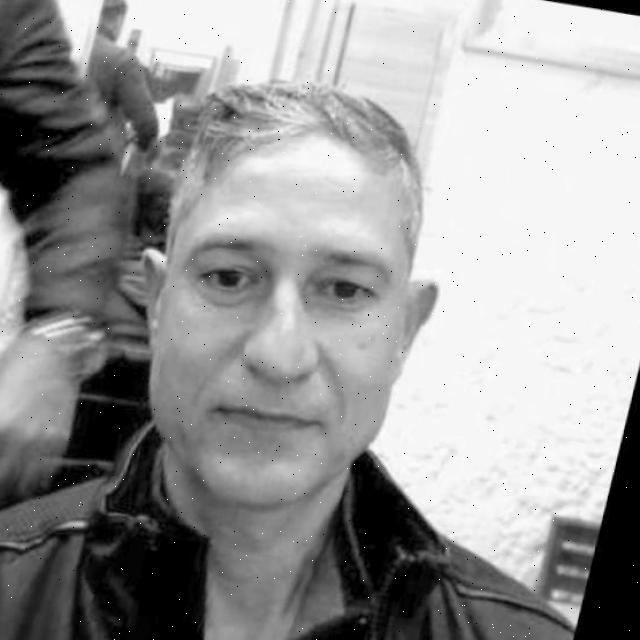puffy_eyes: (200, 283, 261, 306), (321, 300, 373, 317)
